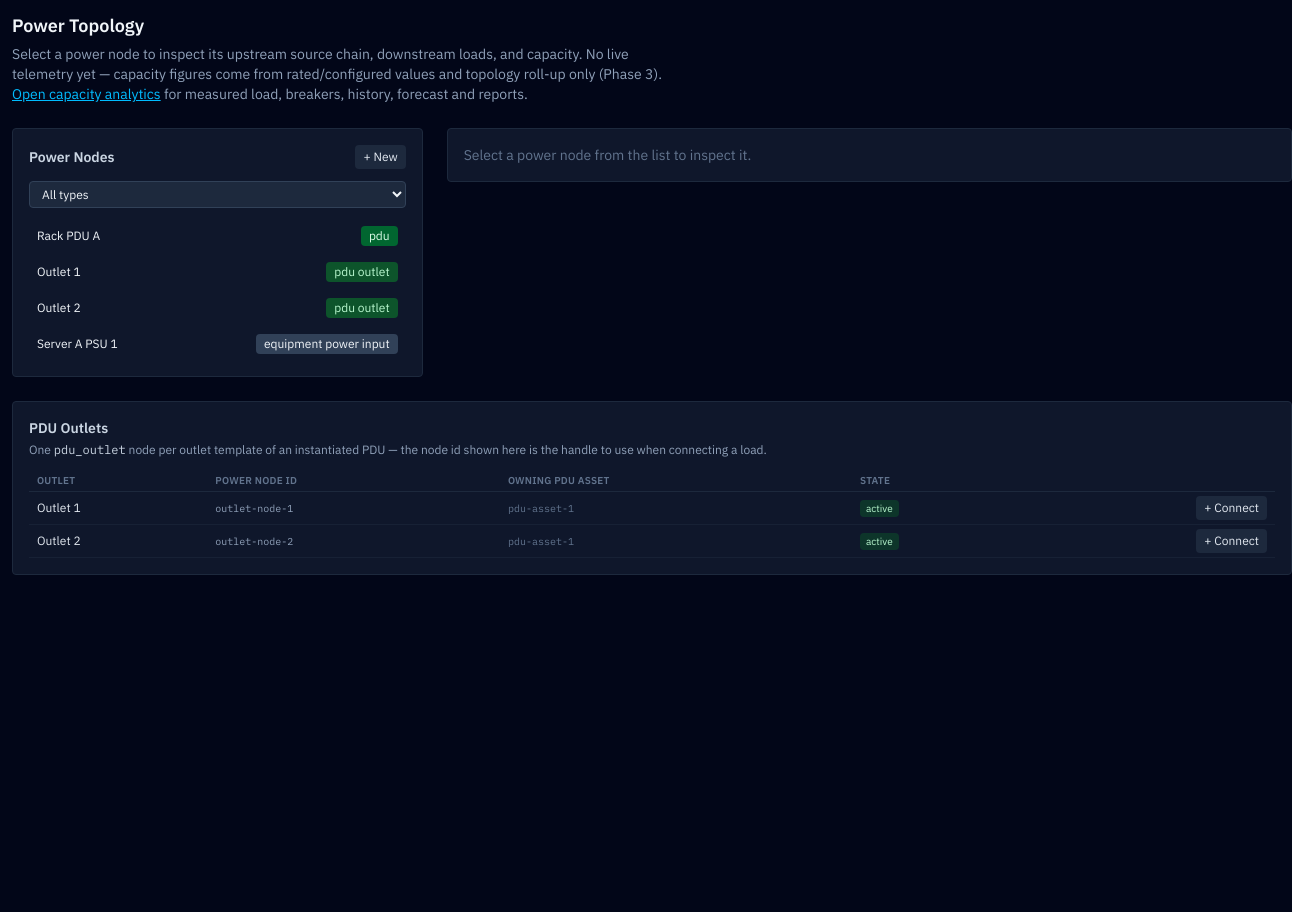
Test: PowerTopologyPage PDU outlets panel › surfaces an API rejection when the connection is refused
Click the button with aria-label "Connect outlet Outlet 2" at {"x": 1232, "y": 541}, box top-left (1196, 529), bottom-right (1267, 553)
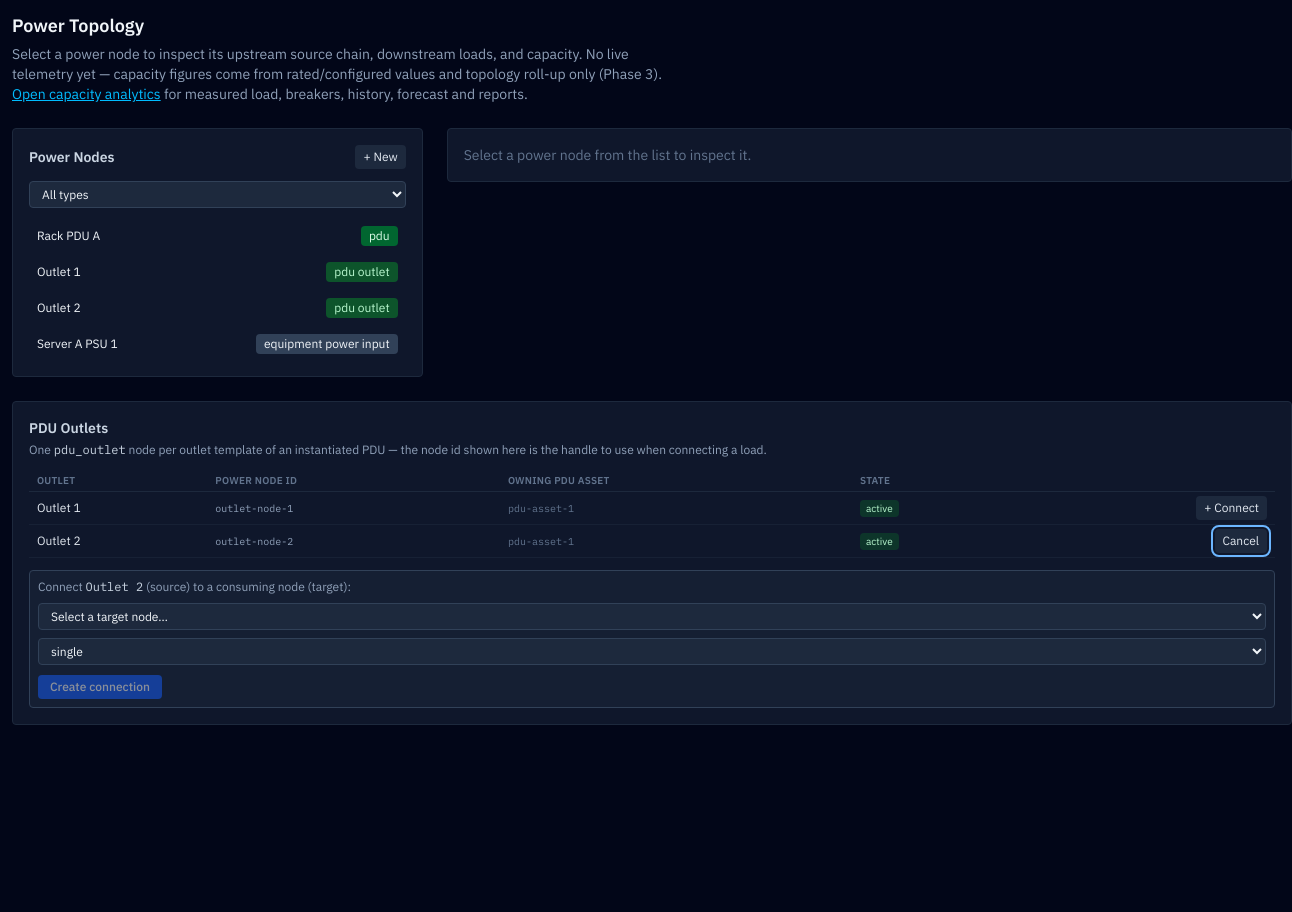
Select "Server A PSU 1 (equipment_power_input)" in the dropdown named "Target node" at {"x": 652, "y": 617}, box top-left (38, 603), bottom-right (1266, 630)
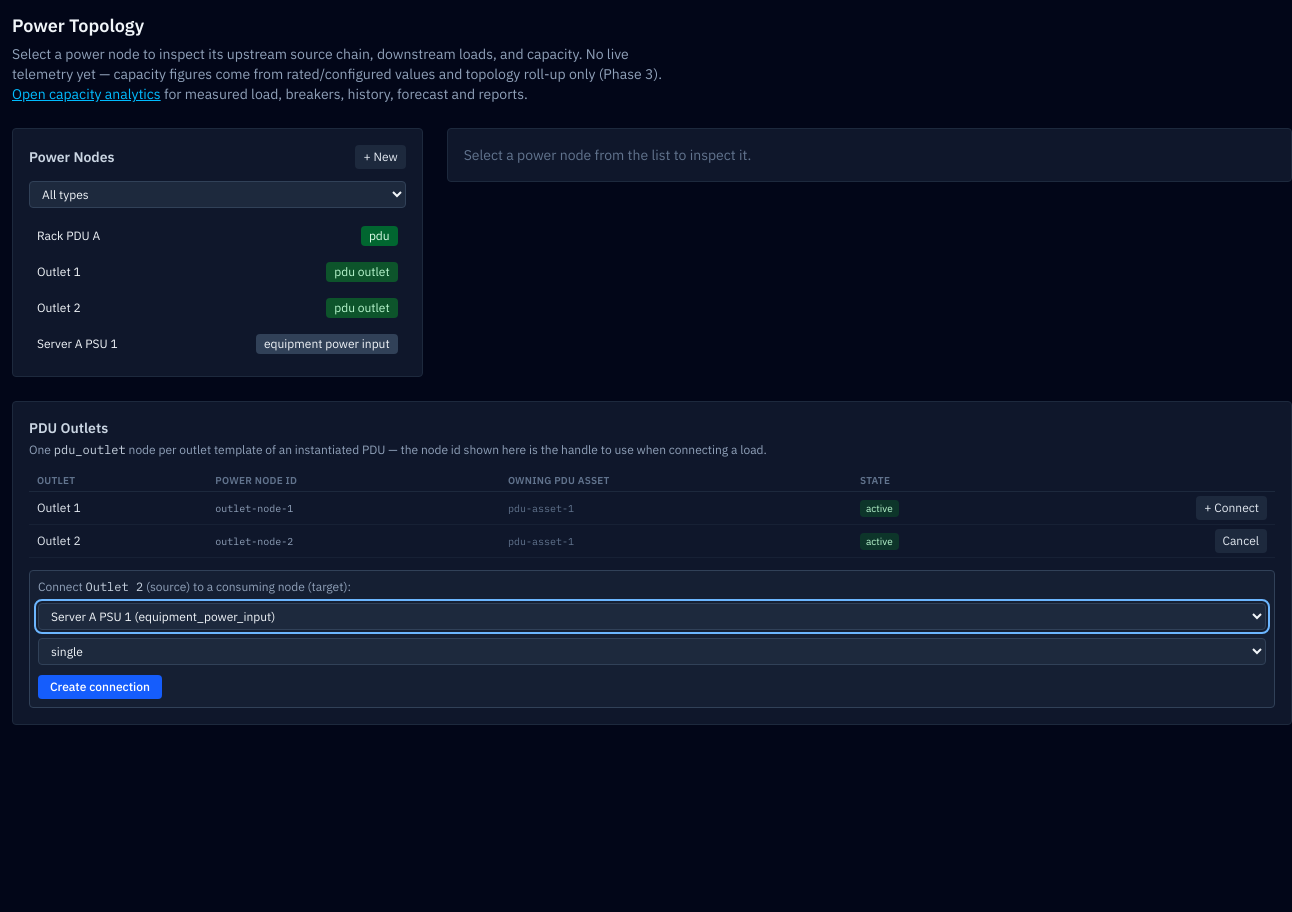
Click the button "Create connection" at {"x": 100, "y": 687}, box top-left (38, 675), bottom-right (162, 699)
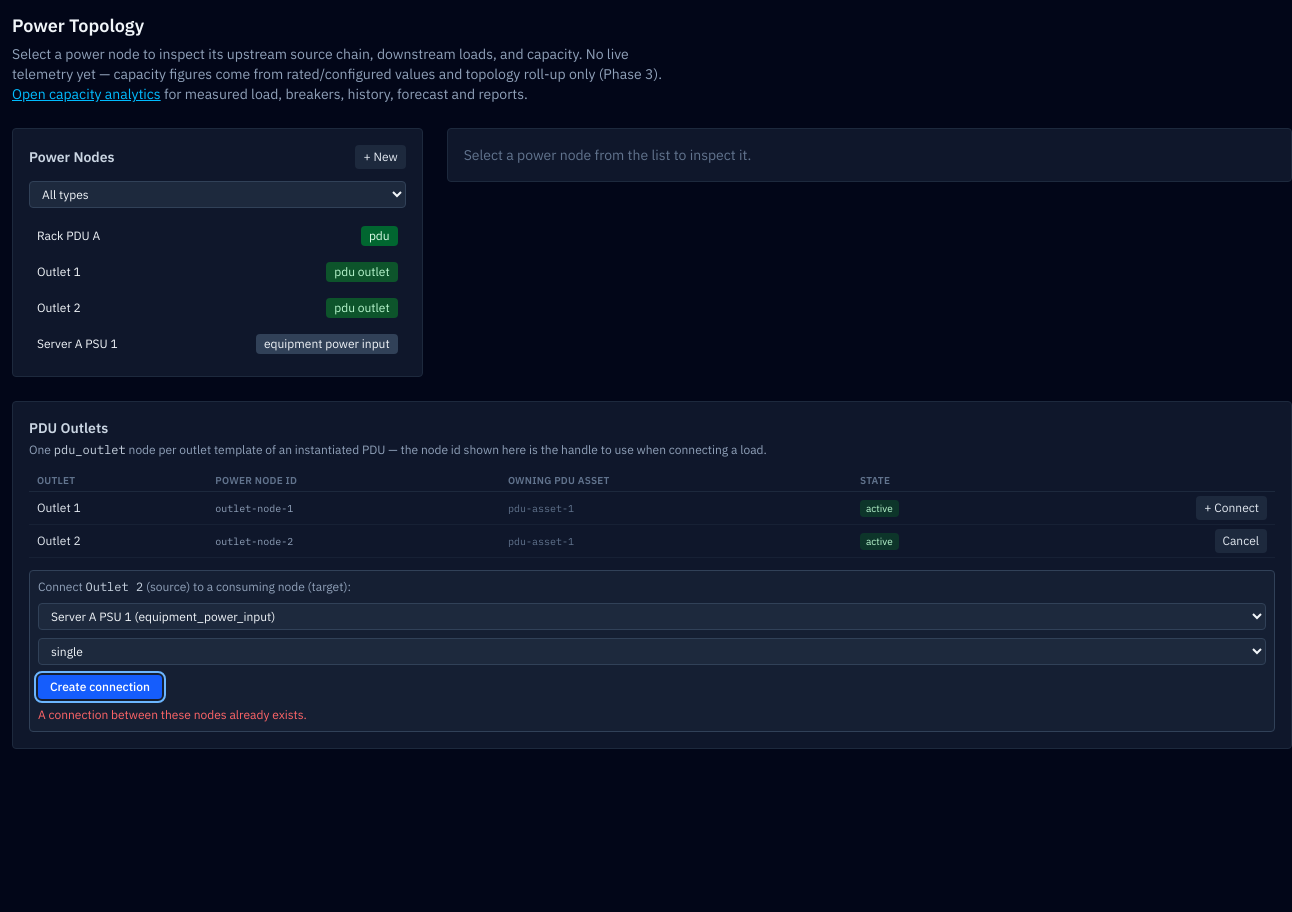
Now the message reads "A connection between these nodes already exists.", box top-left (38, 707), bottom-right (307, 722)
